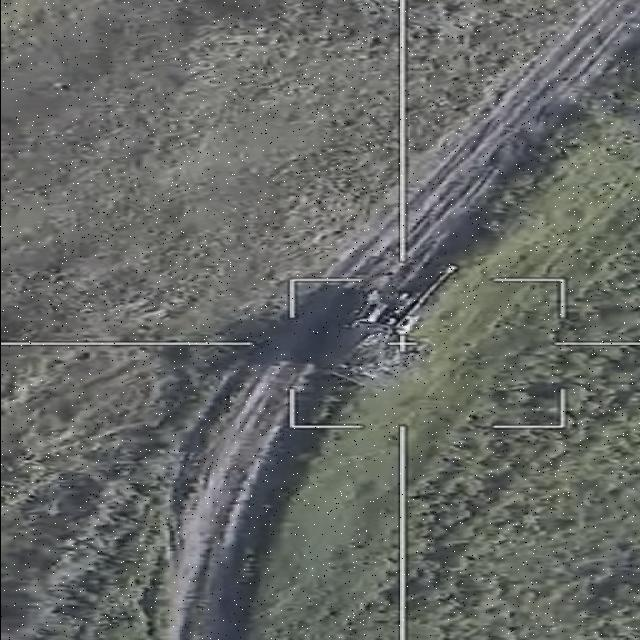ART: (308, 262, 464, 390)
